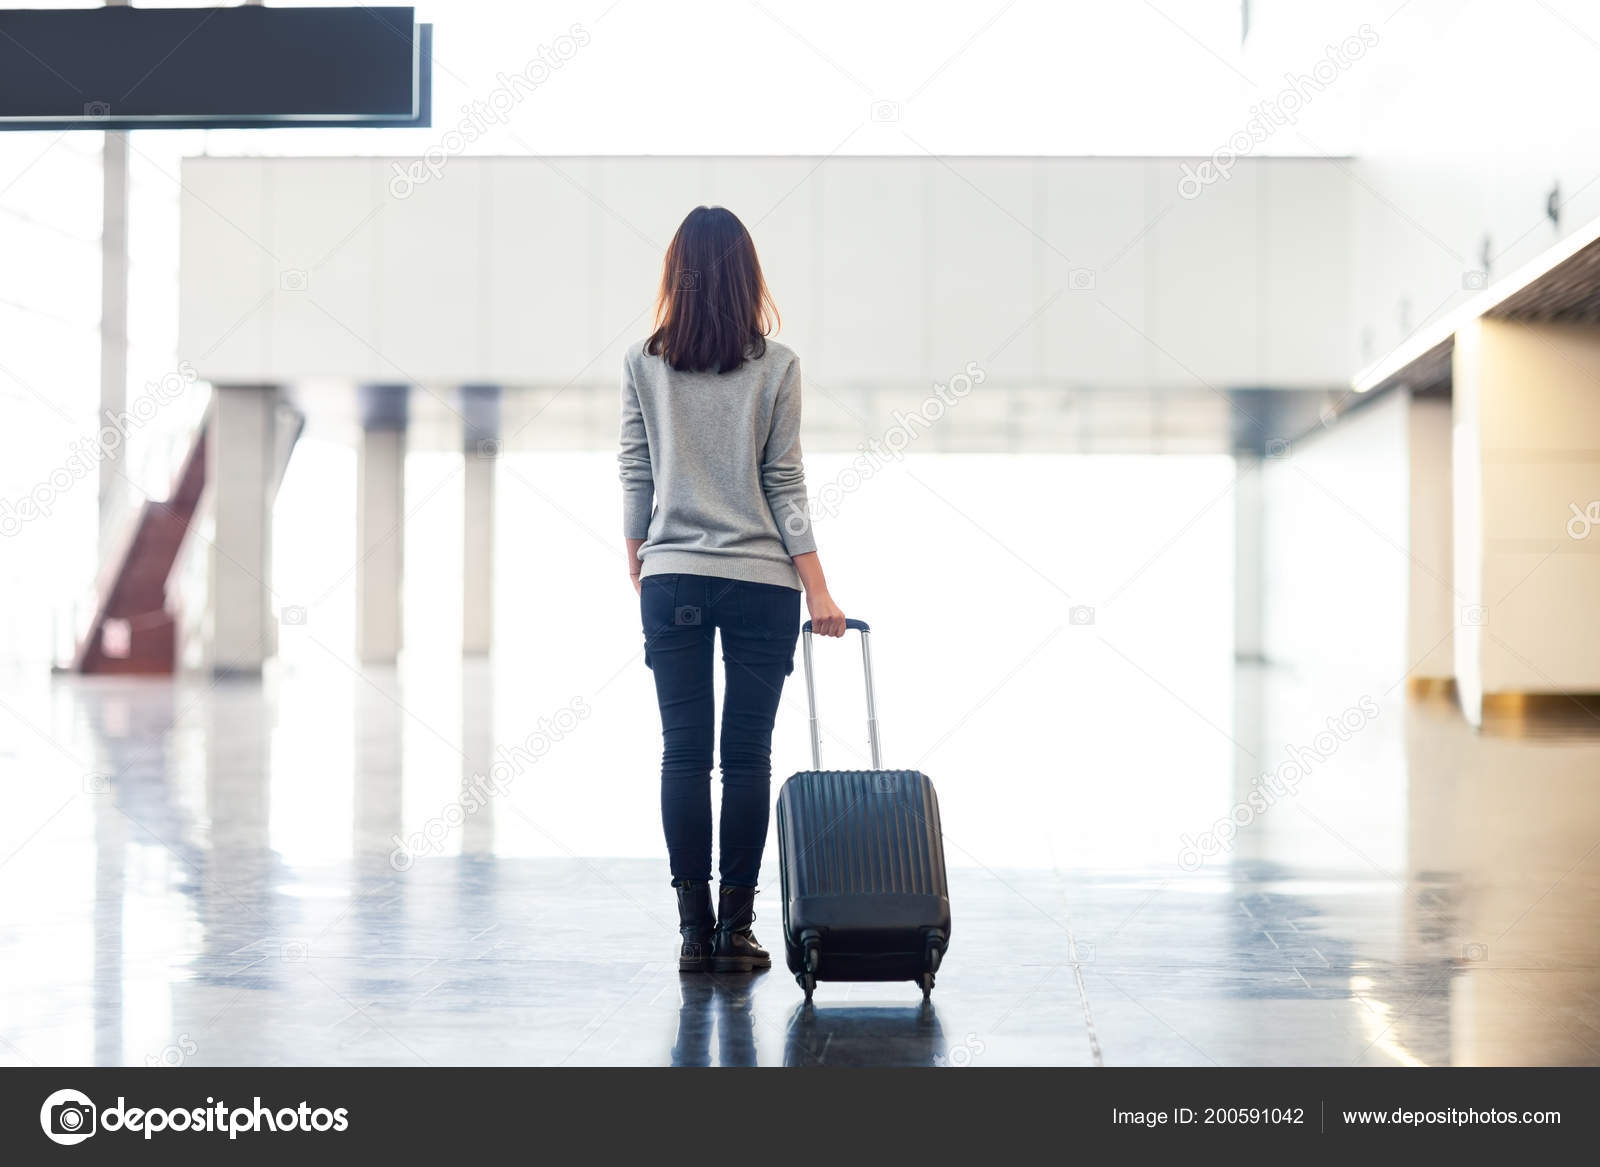luggage: (771, 612, 959, 1014)
people: (612, 195, 845, 1014)
